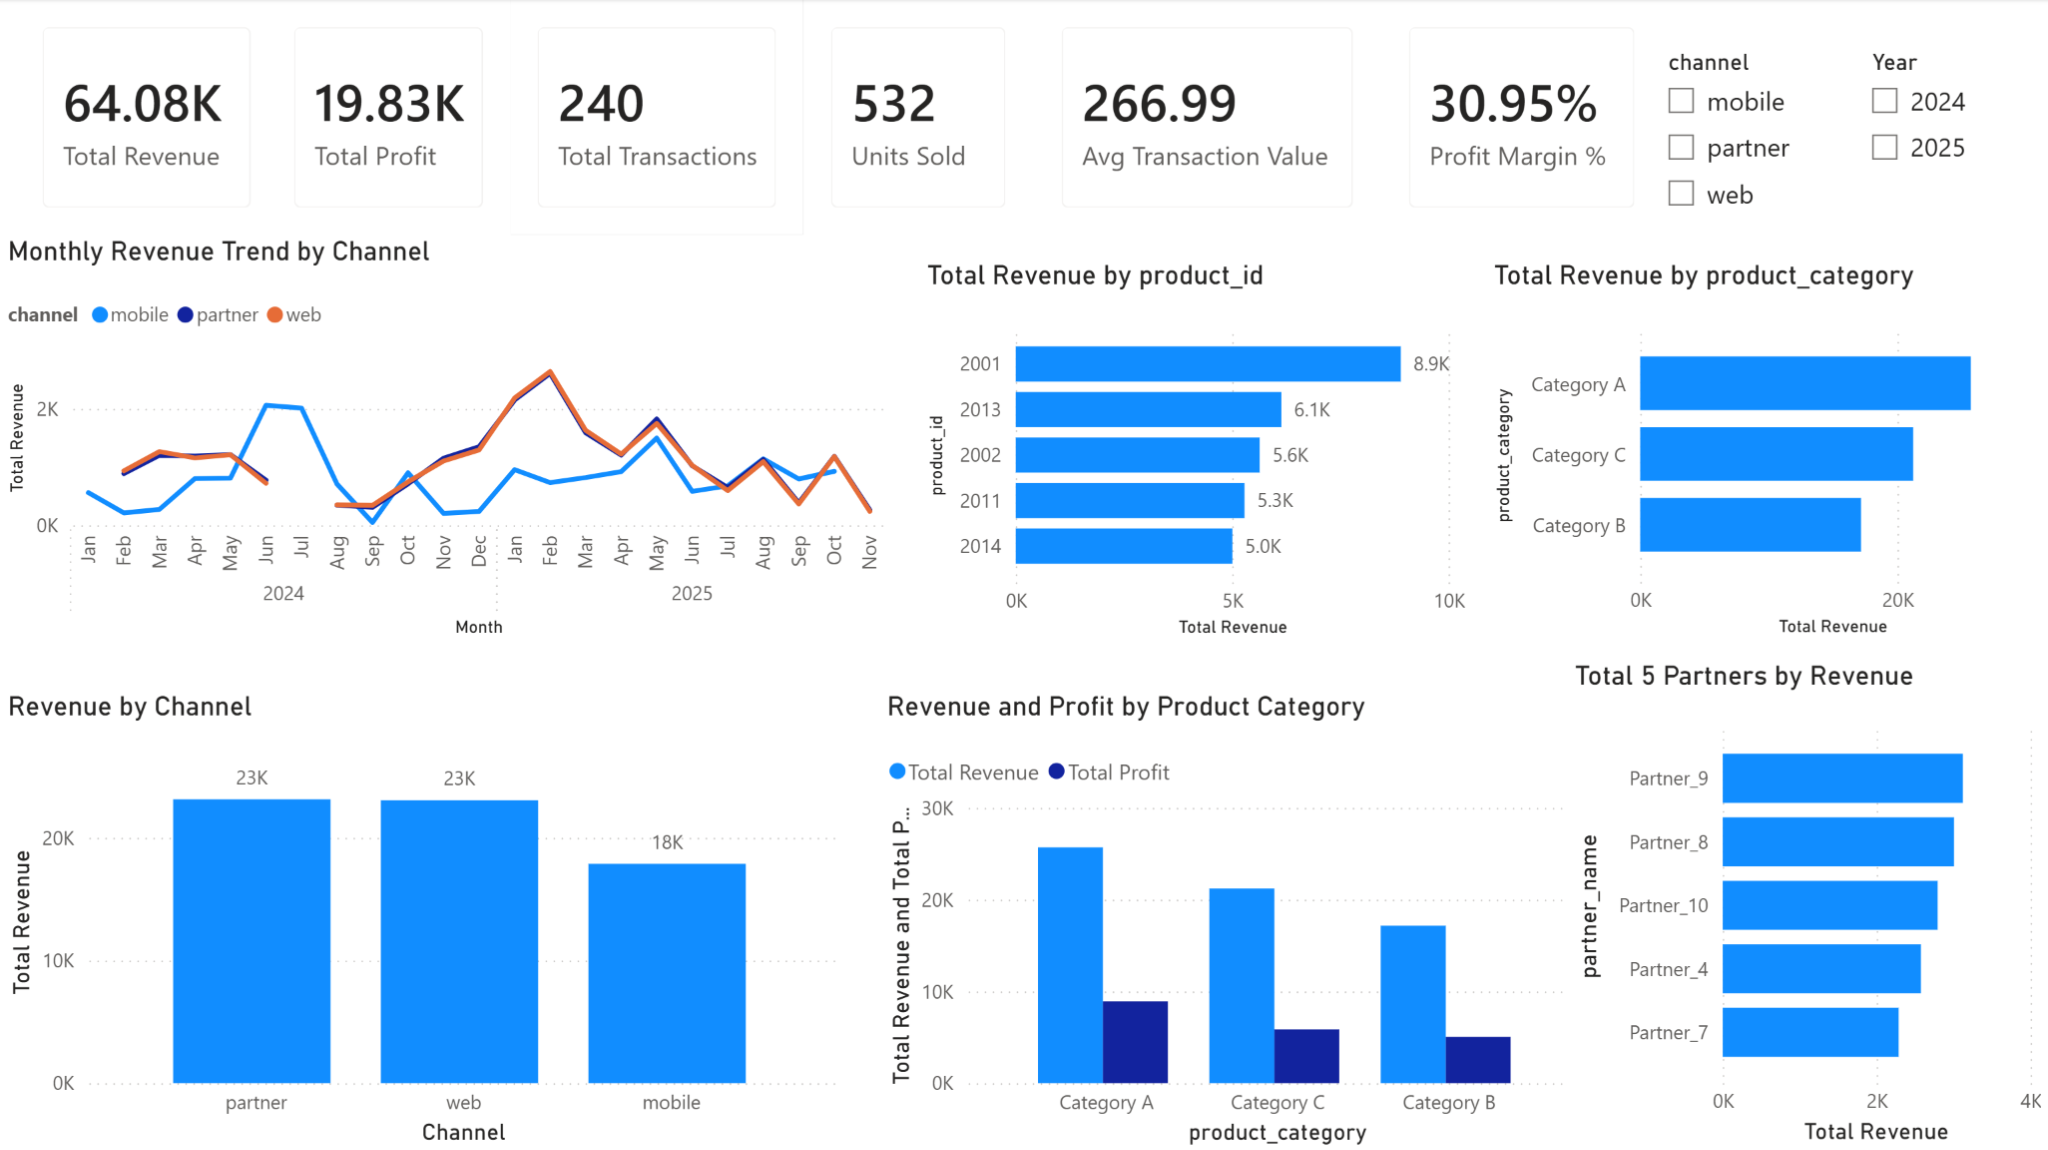

The dashboard page shown, as its layout file describes it:
{"tool":"powerbi","page":{"name":"Page 1","canvas":[1280,720],"ordinal":0},"visuals":[{"type":"cardVisual","fields":{"Data":["factsales.Total Revenue"]},"box":[9.7,0,164.2,147],"z":0},{"type":"cardVisual","fields":{"Data":["factsales.Units Sold"]},"box":[502.3,0,143.8,147],"z":1000},{"type":"cardVisual","fields":{"Data":["factsales.Total Transactions"]},"box":[318.8,0,183.5,147],"z":2000},{"type":"cardVisual","fields":{"Data":["factsales.Total Profit"]},"box":[166.4,0,152.4,147],"z":3000},{"type":"lineChart","title":"Monthly Revenue Trend by Channel","fields":{"Y":["factsales.Total Revenue"],"Series":["factsales.channel"],"Category":["DateTable.Date Hierarchy.Year","DateTable.Date Hierarchy.Month"]},"box":[0,147,557,255.4],"z":4000},{"type":"columnChart","title":"Revenue by Channel","fields":{"Category":["factsales.channel"],"Y":["factsales.Total Revenue"]},"box":[0,431.4,528,288.7],"z":5000},{"type":"clusteredBarChart","fields":{"Y":["factsales.Total Revenue"],"Category":["dimproduct.product_id"]},"box":[574.2,162.1,346.6,240.6],"z":6000},{"type":"clusteredBarChart","fields":{"Category":["dimproduct.product_category"],"Y":["factsales.Total Revenue"]},"box":[928.3,162.1,352,240.4],"z":7000},{"type":"clusteredColumnChart","title":"Revenue and Profit by Product Category","fields":{"Category":["dimproduct.product_category"],"Y":["factsales.Total Revenue","factsales.Total Profit"]},"box":[549.5,431.4,446.5,288.7],"z":8000},{"type":"cardVisual","fields":{"Data":["factsales.Profit Margin %"]},"box":[862.9,0,166.4,147],"z":9000},{"type":"cardVisual","fields":{"Data":["factsales.Average Transaction Value"]},"box":[646.1,0,216.8,147],"z":10000},{"type":"clusteredBarChart","title":"Total 5 Partners by Revenue","fields":{"Category":["dimpartner.partner_name"],"Y":["factsales.Total Revenue"]},"box":[979,412.4,301.3,307.5],"z":10001},{"type":"slicer","fields":{"Values":["DateTable.Year"]},"box":[1146.2,25.8,134.2,100.9],"z":10002},{"type":"slicer","fields":{"Values":["factsales.channel"]},"box":[1029.2,25.8,118.1,121.3],"z":10003}]}

Visuals, with their boxes in screenshot pixels (x1, y1, x2, y2), scaled from the page's 1280x720 canvas onto the 2048x1150 screenshot:
cardVisual - factsales.Total Revenue: [16,0,278,235]
cardVisual - factsales.Units Sold: [804,0,1034,235]
cardVisual - factsales.Total Transactions: [510,0,804,235]
cardVisual - factsales.Total Profit: [266,0,510,235]
"Monthly Revenue Trend by Channel" lineChart: [0,235,891,643]
"Revenue by Channel" columnChart: [0,689,845,1149]
clusteredBarChart - factsales.Total Revenue x dimproduct.product_id: [919,259,1473,643]
clusteredBarChart - dimproduct.product_category x factsales.Total Revenue: [1485,259,2047,643]
"Revenue and Profit by Product Category" clusteredColumnChart: [879,689,1594,1149]
cardVisual - factsales.Profit Margin %: [1381,0,1647,235]
cardVisual - factsales.Average Transaction Value: [1034,0,1381,235]
"Total 5 Partners by Revenue" clusteredBarChart: [1566,659,2047,1149]
slicer - DateTable.Year: [1834,41,2047,202]
slicer - factsales.channel: [1647,41,1836,235]
